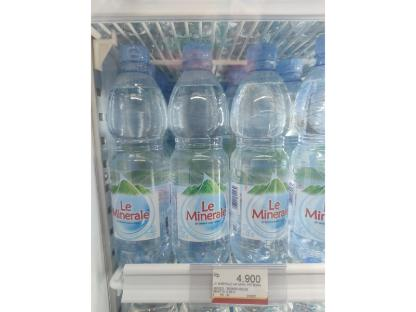Plastic Bottle: (167, 42, 231, 264), (108, 43, 172, 261), (230, 44, 292, 262)
